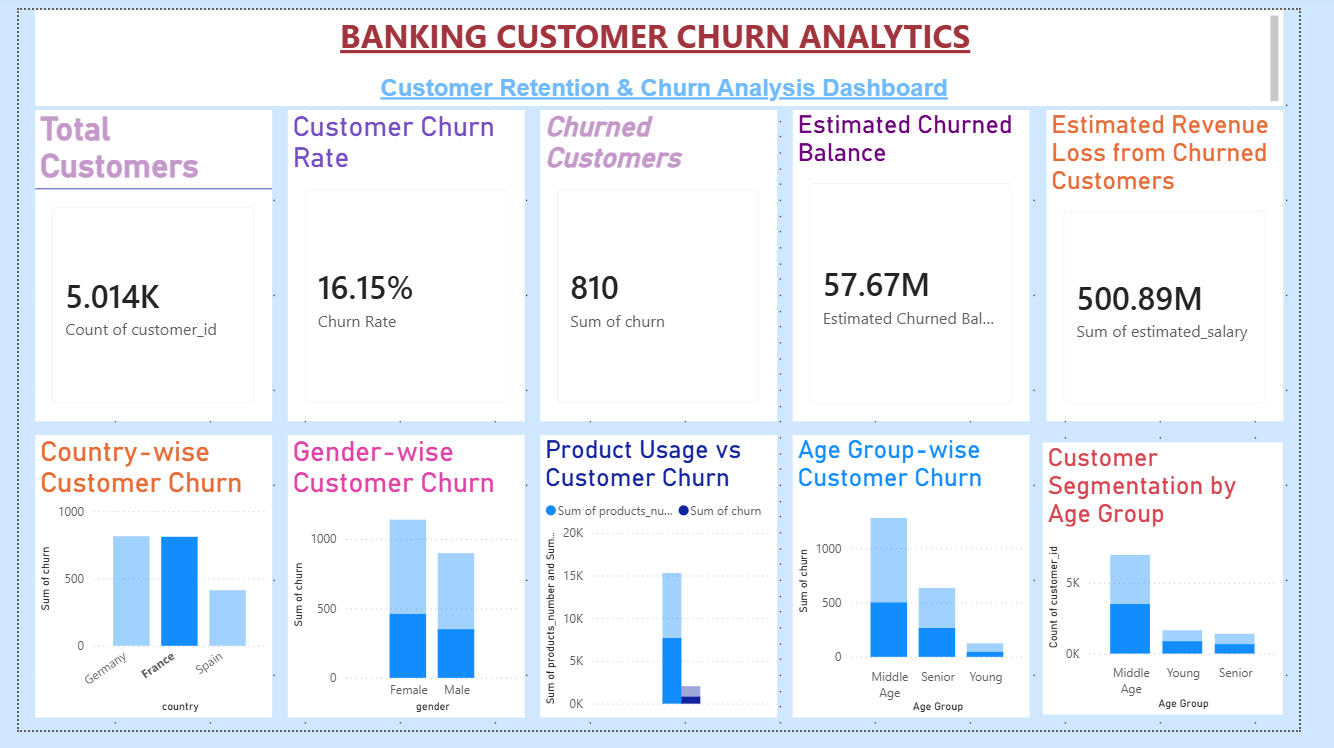

The page's visual inventory and layout, read from the dashboard file:
{"tool":"powerbi","page":{"name":"Page 1","canvas":[1280,720],"ordinal":0},"visuals":[{"type":"clusteredColumnChart","title":"Country-wise Customer Churn","fields":{"Category":["cleaned_bank_customer_churn.country"],"Y":["Sum(cleaned_bank_customer_churn.churn)"]},"box":[16,425.1,237,282.8],"z":0},{"type":"clusteredColumnChart","title":"Gender-wise Customer Churn","fields":{"Category":["cleaned_bank_customer_churn.gender"],"Y":["Sum(cleaned_bank_customer_churn.churn)"]},"box":[268.8,425.1,237,282.8],"z":1000},{"type":"cardVisual","title":"Total Customers","fields":{"Data":["CountNonNull(cleaned_bank_customer_churn.customer_id)"]},"box":[16,99.9,237,311.1],"z":2000},{"type":"cardVisual","title":"Churned Customers","fields":{"Data":["Sum(cleaned_bank_customer_churn.churn)"]},"box":[521.5,99.9,237,311.1],"z":3000},{"type":"cardVisual","title":"Customer Churn Rate","fields":{"Data":["cleaned_bank_customer_churn.Churn Rate"]},"box":[268.8,99.9,237,311.1],"z":4000},{"type":"clusteredColumnChart","title":"Product Usage vs Customer Churn","fields":{"Y":["Sum(cleaned_bank_customer_churn.products_number)","Sum(cleaned_bank_customer_churn.churn)"]},"box":[521.5,425.1,237,282.8],"z":5000},{"type":"clusteredColumnChart","title":"Age Group-wise Customer Churn","fields":{"Category":["cleaned_bank_customer_churn.Age Group"],"Y":["Sum(cleaned_bank_customer_churn.churn)"]},"box":[774.3,425.1,237,282.8],"z":6000},{"type":"clusteredColumnChart","title":"Customer Segmentation by Age Group","fields":{"Category":["cleaned_bank_customer_churn.Age Group"],"Y":["CountNonNull(cleaned_bank_customer_churn.customer_id)"]},"box":[1024,432,240,272],"z":7000},{"type":"cardVisual","title":"Estimated Churned Balance","fields":{"Data":["cleaned_bank_customer_churn.Estimated Churned Balance"]},"box":[774.3,99.9,237,311.1],"z":8000},{"type":"cardVisual","title":"Estimated Revenue Loss from Churned Customers","fields":{"Data":["Sum(cleaned_bank_customer_churn.estimated_salary)"]},"box":[1027,99.9,237,311.1],"z":9000},{"type":"textbox","box":[16,0,1248,96],"z":10000}]}

Visuals, with their boxes in screenshot pixels (x1, y1, x2, y2), scaled from the page's 1280x720 canvas onto the 1334x748 screenshot:
"Country-wise Customer Churn" clusteredColumnChart: bbox(17, 442, 264, 735)
"Gender-wise Customer Churn" clusteredColumnChart: bbox(280, 442, 527, 735)
"Total Customers" cardVisual: bbox(17, 104, 264, 427)
"Churned Customers" cardVisual: bbox(544, 104, 790, 427)
"Customer Churn Rate" cardVisual: bbox(280, 104, 527, 427)
"Product Usage vs Customer Churn" clusteredColumnChart: bbox(544, 442, 790, 735)
"Age Group-wise Customer Churn" clusteredColumnChart: bbox(807, 442, 1054, 735)
"Customer Segmentation by Age Group" clusteredColumnChart: bbox(1067, 449, 1317, 731)
"Estimated Churned Balance" cardVisual: bbox(807, 104, 1054, 427)
"Estimated Revenue Loss from Churned Customers" cardVisual: bbox(1070, 104, 1317, 427)
textbox: bbox(17, 0, 1317, 100)
